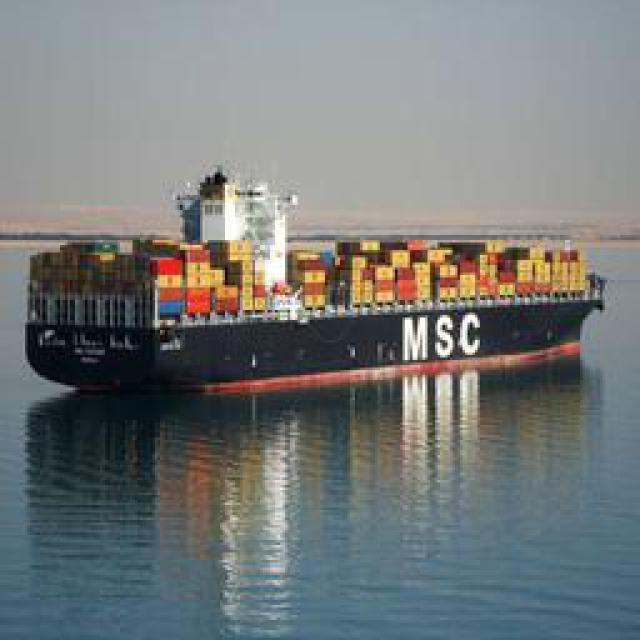Ship: (15, 210, 625, 400)
